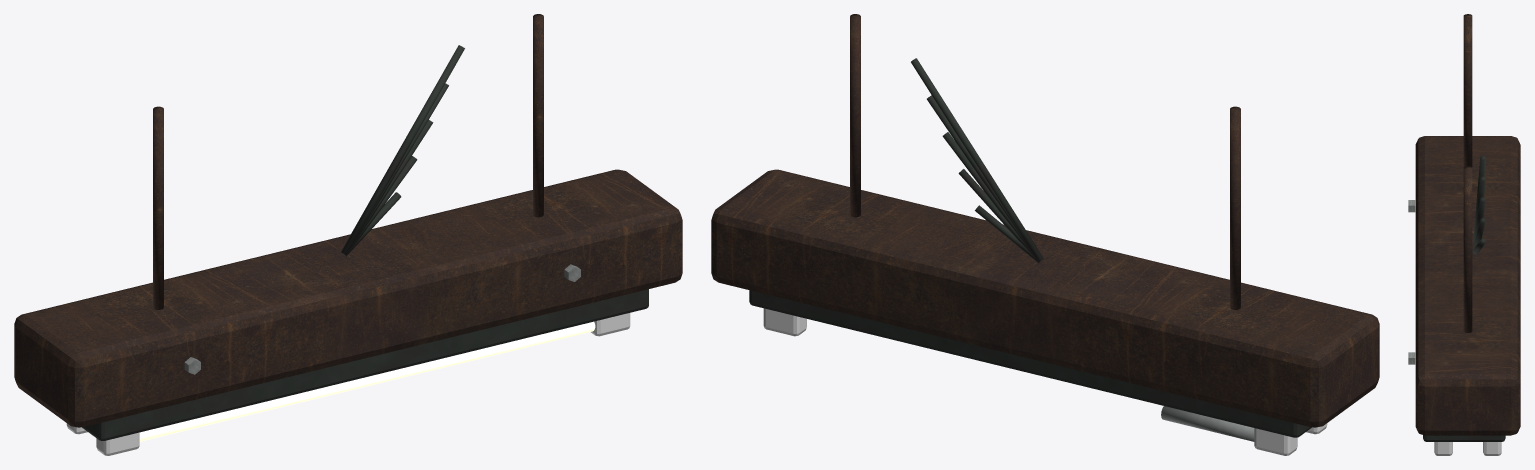
Rendered from f3_v3_fluorescent_fixture.glb.
3 renders of one model, left to right at view 1: azimuth 30°, elevation 25°; view 2: azimuth 150°, elevation 25°; view 3: azimuth 270°, elevation 25°, orthographic. The views are drawn at different scales.
Visible parts, largest first — view 1: f3_oxidized_iron_surface, f3_deep_crack_surface, dusty warm fluorescent glass_surface, aged ceramic lamp holders_surface; view 2: f3_oxidized_iron_surface, f3_deep_crack_surface, aged ceramic lamp holders_surface, f3_bare_worn_steel_surface; view 3: f3_oxidized_iron_surface, f3_deep_crack_surface, aged ceramic lamp holders_surface, f3_bare_worn_steel_surface.
Part boxes in pixels (box(x1,y1,x2,y2)): f3_oxidized_iron_surface: box(14, 14, 682, 427); f3_deep_crack_surface: box(82, 45, 648, 440); dusty warm fluorescent glass_surface: box(139, 321, 595, 441); aged ceramic lamp holders_surface: box(66, 313, 630, 455); f3_oxidized_iron_surface: box(711, 14, 1379, 427); f3_deep_crack_surface: box(749, 58, 1311, 437); aged ceramic lamp holders_surface: box(763, 308, 1327, 455); f3_bare_worn_steel_surface: box(1161, 406, 1254, 441); f3_oxidized_iron_surface: box(1415, 14, 1520, 435); f3_deep_crack_surface: box(1423, 155, 1505, 441); aged ceramic lamp holders_surface: box(1434, 442, 1501, 455); f3_bare_worn_steel_surface: box(1408, 200, 1415, 364).
Size of the model in its own units: 1.55 by 0.765 by 0.299.
Materials: 5 (3 with a texture image).
